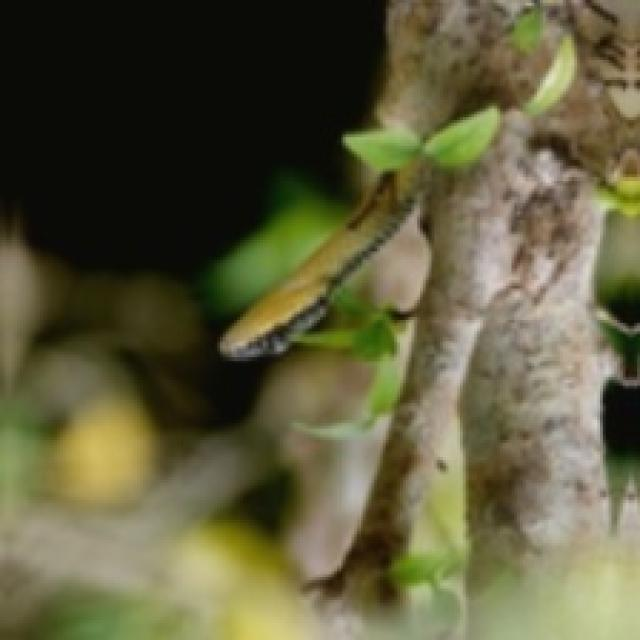paradise tree snake: (220, 0, 637, 357)
